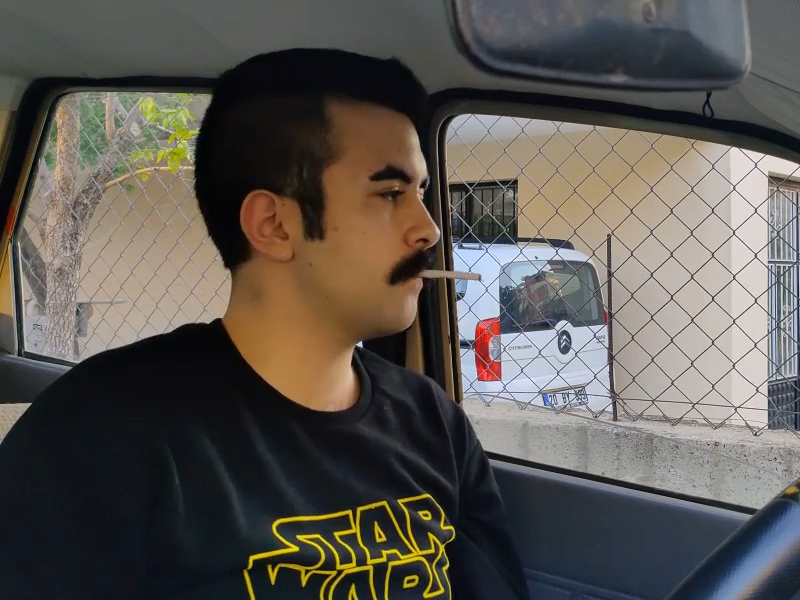sigara: (418, 268, 482, 281)
